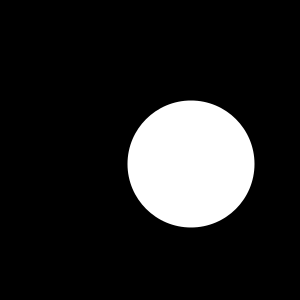rectangle: (128, 100, 255, 228)
